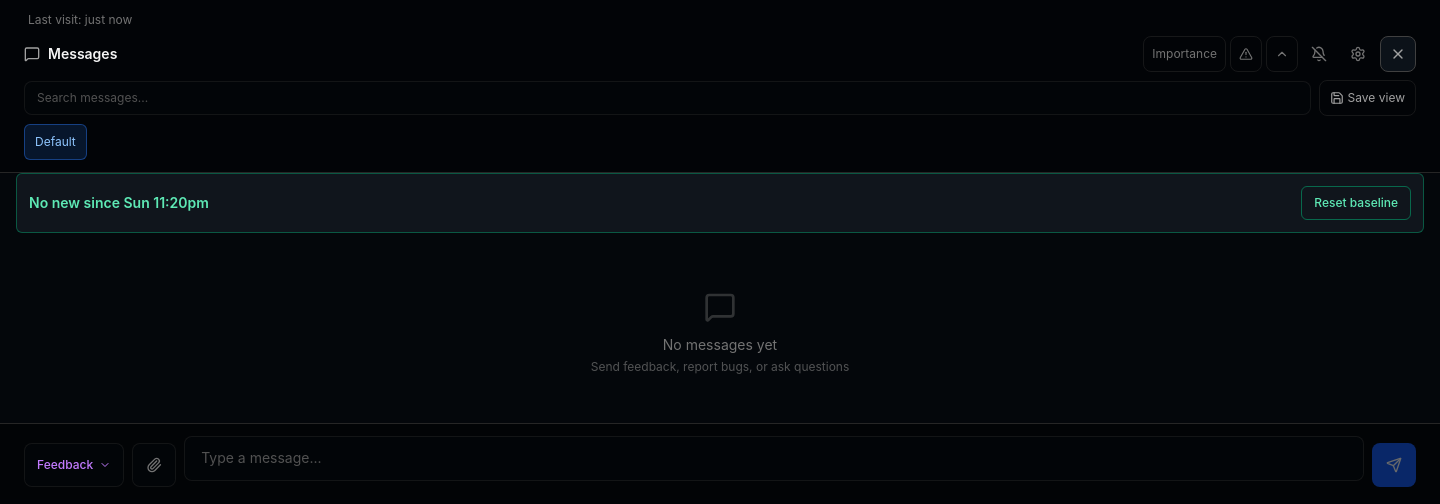
Test: MessagesPanel mute window › mute dropdown renders 1h/4h/8h options
Step 1. Click the button named "Mute routine ops temporarily" → (1319, 54), box [1302, 36, 1336, 72]
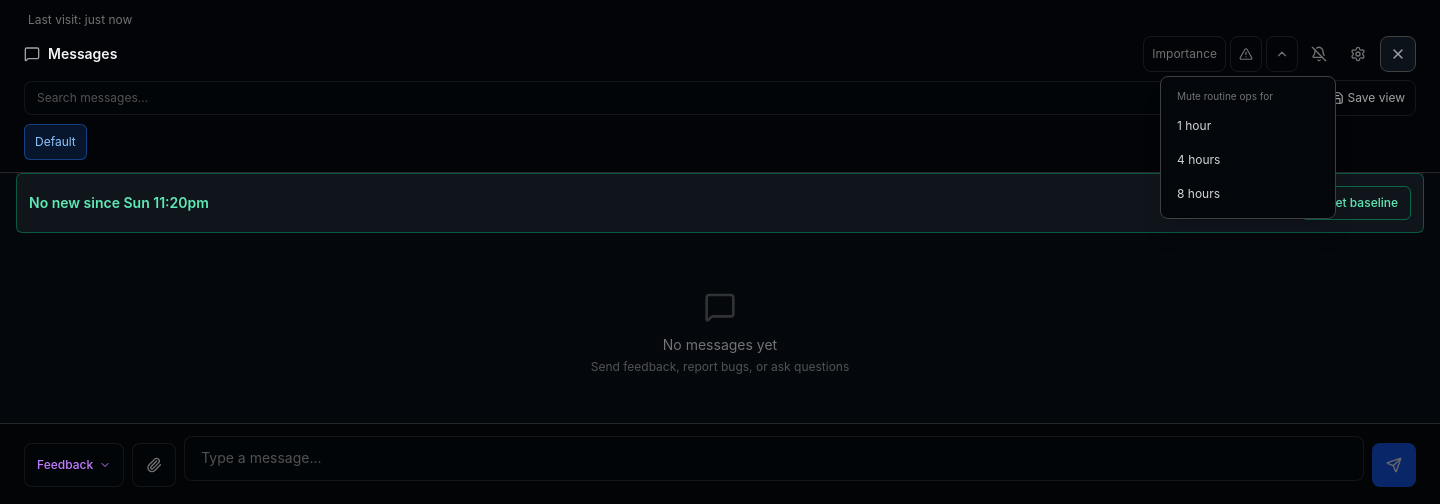
Result: the text "1 hour" is shown at [1169, 110, 1327, 142]
Result: the text "4 hours" is shown at [1169, 144, 1327, 176]
Result: the text "8 hours" is shown at [1169, 178, 1327, 210]
